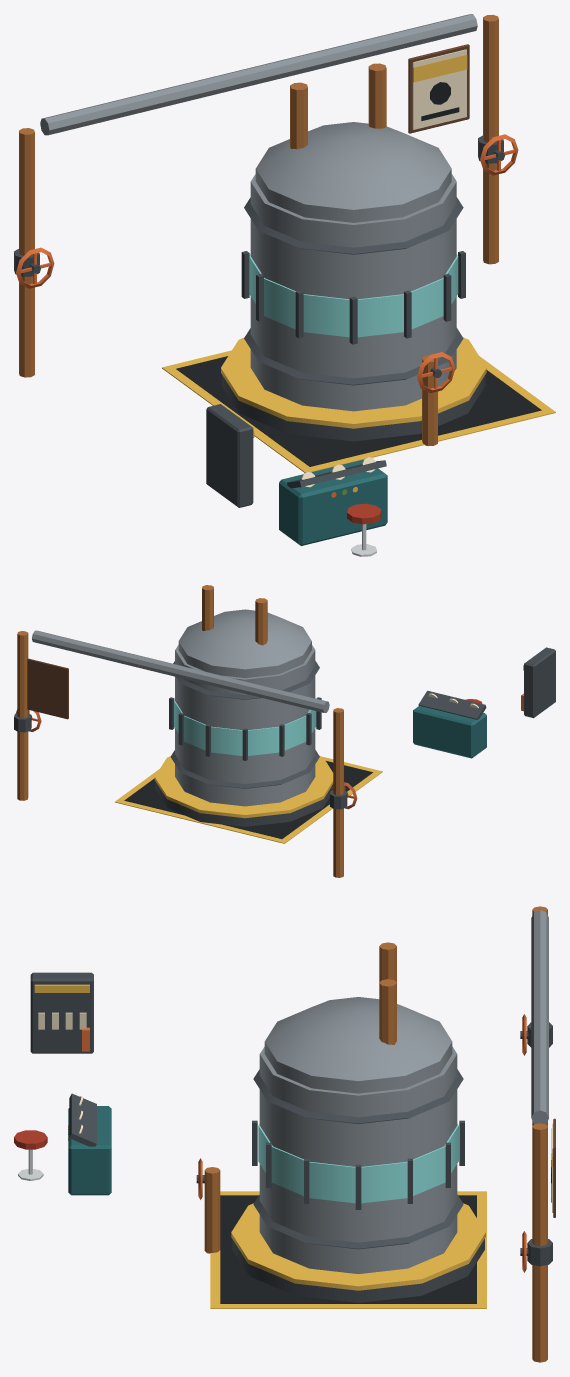
Rendered from Room_ReactorCore_L1.fbx.
The picture shows the model from 3 angles, top to bottom: view 1: azimuth 30°, elevation 25°; view 2: azimuth 150°, elevation 25°; view 3: azimuth 270°, elevation 25°; orthographic projection. The views are drawn at different scales.
Visible parts, largest first — view 1: Decor, Vessel, DecorNeon, Console1, FuseBox, Plinth, Standpipe; view 2: Decor, Vessel, DecorNeon, Console1, FuseBox, Plinth; view 3: Decor, Vessel, DecorNeon, FuseBox, Plinth, Console1, Standpipe.
Part boxes in pixels (x1,y1,x2,y2): Decor: [14, 14, 555, 556]; Vessel: [250, 174, 456, 411]; DecorNeon: [249, 254, 458, 497]; Console1: [279, 459, 387, 545]; FuseBox: [206, 404, 253, 507]; Plinth: [222, 374, 485, 441]; Standpipe: [422, 355, 437, 445]; Decor: [14, 585, 523, 877]; Vessel: [175, 645, 315, 806]; DecorNeon: [174, 700, 316, 755]; Console1: [413, 706, 486, 758]; FuseBox: [524, 647, 555, 718]; Plinth: [155, 781, 333, 826]; Decor: [14, 906, 555, 1362]; Vessel: [259, 1046, 457, 1273]; DecorNeon: [68, 1123, 458, 1203]; FuseBox: [30, 972, 93, 1053]; Plinth: [232, 1239, 484, 1302]; Console1: [68, 1106, 111, 1195]; Standpipe: [204, 1167, 220, 1253].
Size of the model in its own units: 30.13 by 16 by 27.45.
